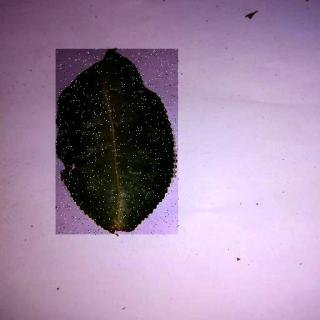Anthracnose: (58, 51, 181, 237)
